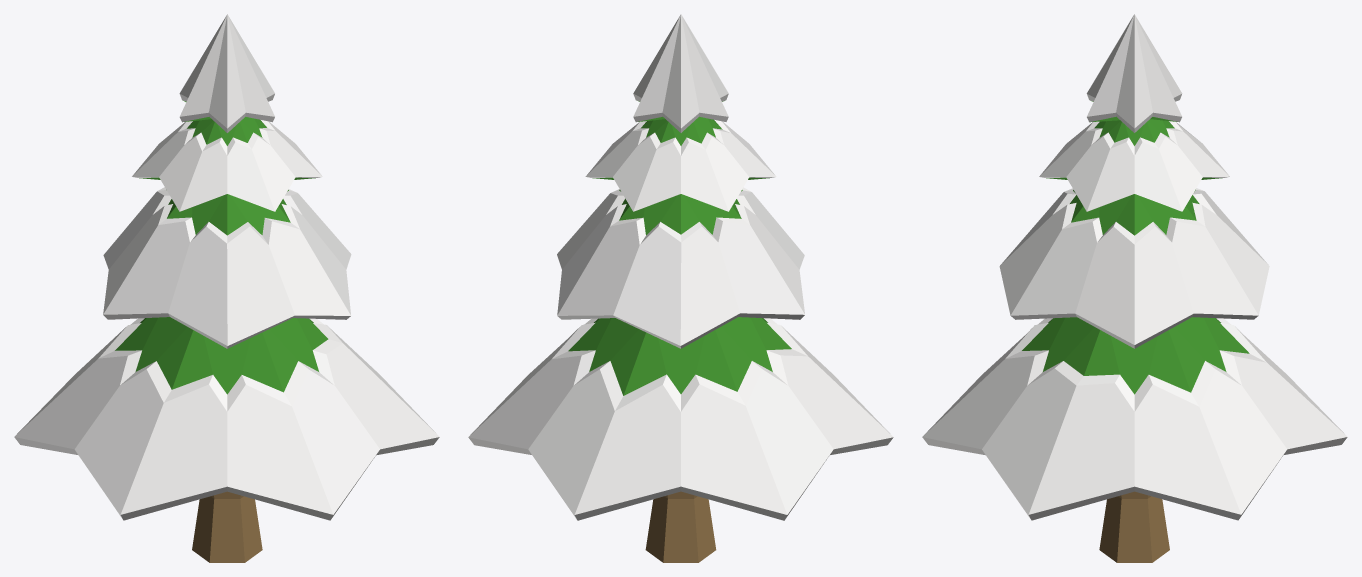
File: snowytree.fbx
3 renders of one model, left to right at view 1: azimuth 30°, elevation 25°; view 2: azimuth 150°, elevation 25°; view 3: azimuth 270°, elevation 25°, orthographic.
Parts seen in each view (by area): view 1: Snowy_Tree; view 2: Snowy_Tree; view 3: Snowy_Tree.
Part boxes in pixels (bbox=[...]): Snowy_Tree: bbox=[14, 14, 439, 562]; Snowy_Tree: bbox=[468, 14, 893, 562]; Snowy_Tree: bbox=[922, 14, 1347, 562].
Size of the model in its own units: 184 by 295 by 213.
